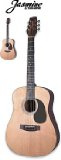guitar: (3, 15, 60, 158), (1, 19, 19, 61)
